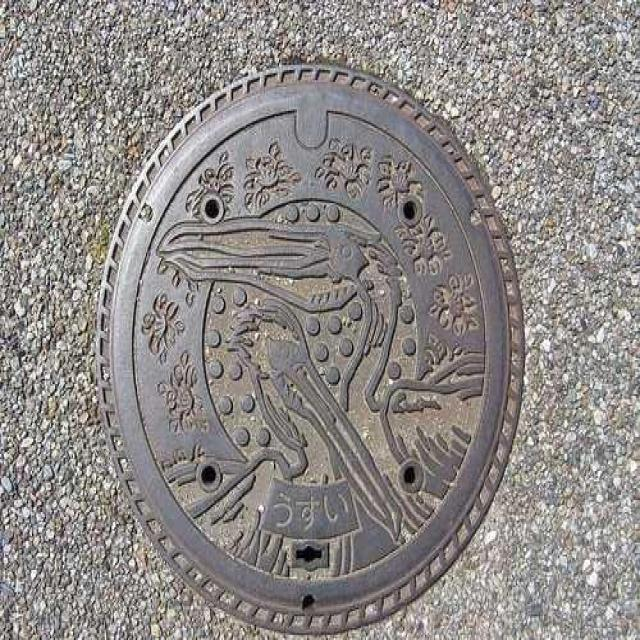manhole: (99, 65, 522, 632)
